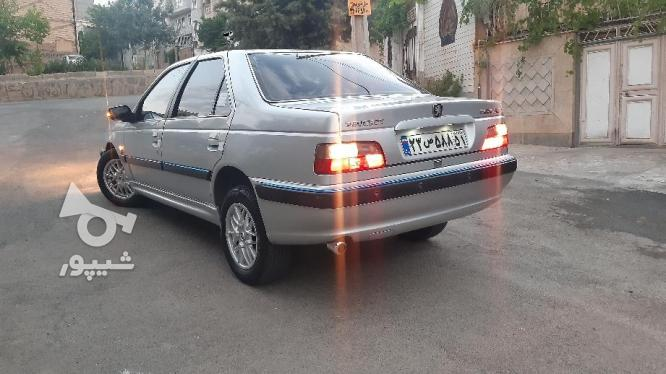car: (401, 128, 470, 161)
